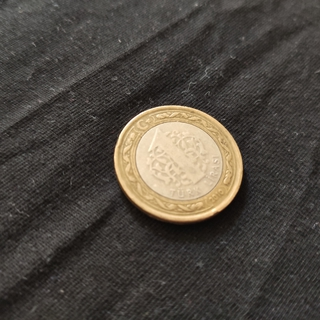1TL: (111, 102, 246, 226)
